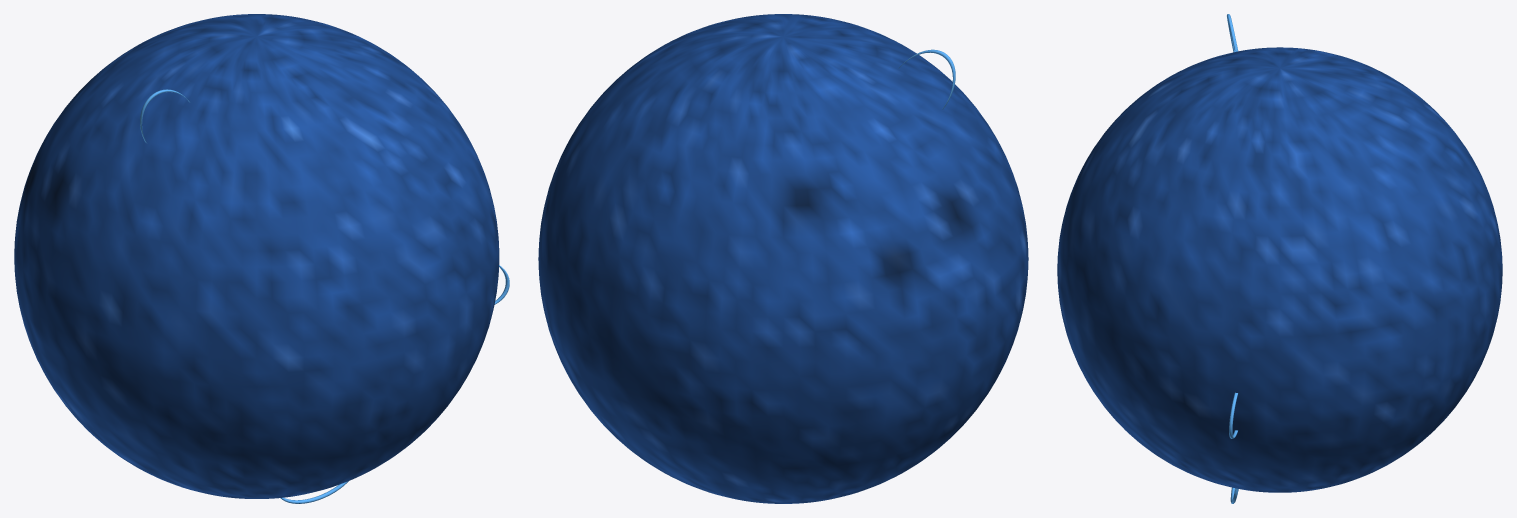
File: Star_02.fbx
The picture shows the model from 3 angles, left to right: view 1: azimuth 30°, elevation 25°; view 2: azimuth 150°, elevation 25°; view 3: azimuth 270°, elevation 25°; orthographic projection. The views are drawn at different scales.
Parts seen in each view (by area): view 1: Star_02; view 2: Star_02; view 3: Star_02.
Part boxes in pixels (box(x1,y1,x2,y2)): Star_02: box(14, 14, 509, 503); Star_02: box(538, 14, 1028, 503); Star_02: box(1057, 14, 1502, 503).
Bounding box in the file's own units: 207 × 206 × 200.
